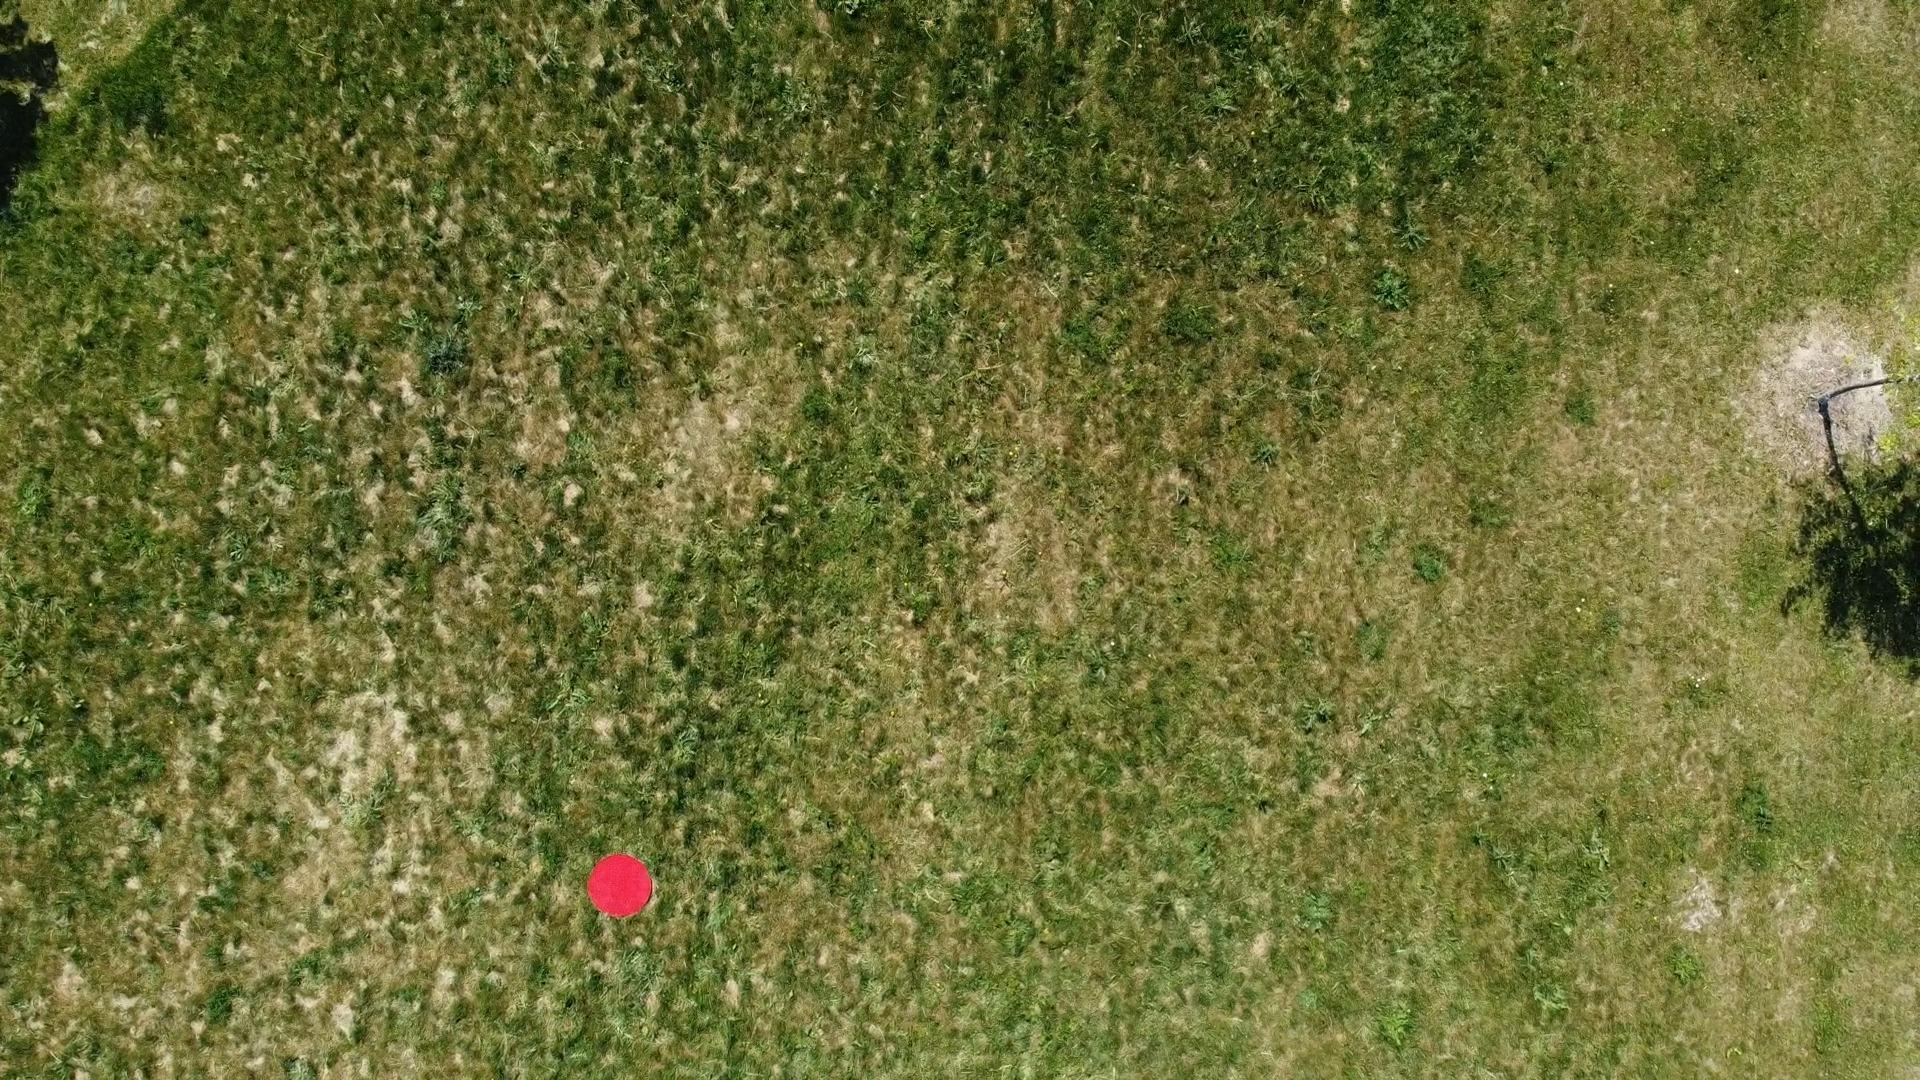Red: (584, 852, 654, 919)
